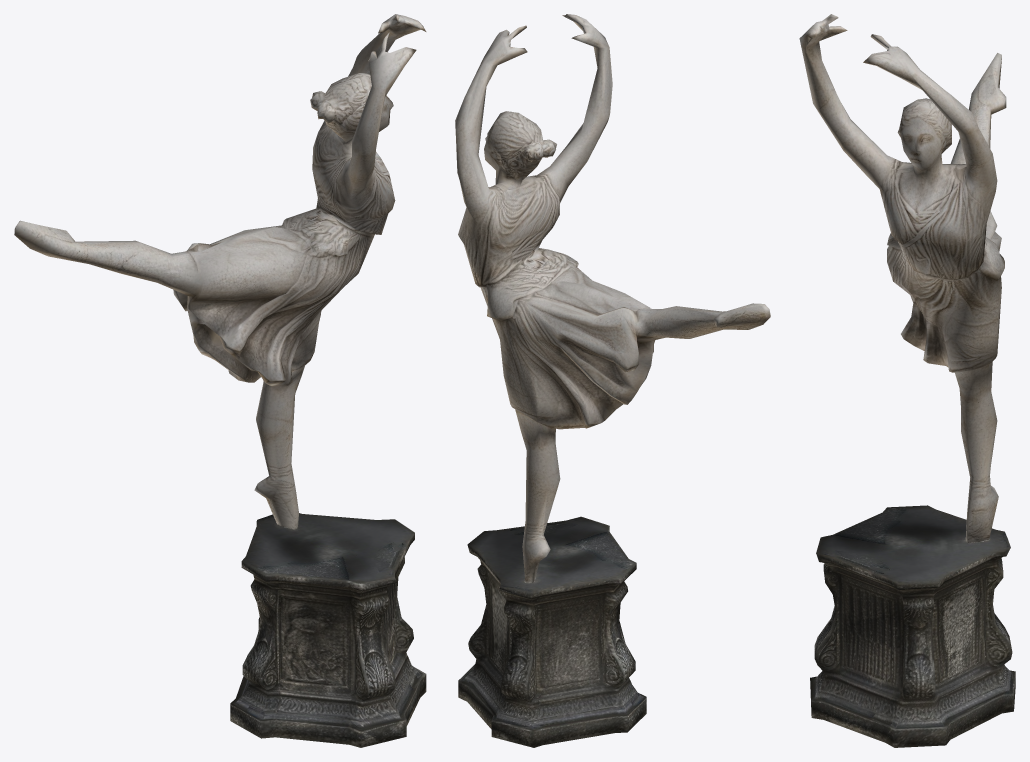
The model's file is ornate+statue+3d+model.glb.
3 views of the same model, side by side, from view 1: azimuth 30°, elevation 25°; view 2: azimuth 150°, elevation 25°; view 3: azimuth 270°, elevation 25° (orthographic). The views are drawn at different scales.
Visible parts, largest first — view 1: tripo_node_3a8d0a55-e23d-4c2c-9608-16a2a433ec49; view 2: tripo_node_3a8d0a55-e23d-4c2c-9608-16a2a433ec49; view 3: tripo_node_3a8d0a55-e23d-4c2c-9608-16a2a433ec49.
Part boxes in pixels (x1,y1,x2,y2): tripo_node_3a8d0a55-e23d-4c2c-9608-16a2a433ec49: [14, 14, 426, 747]; tripo_node_3a8d0a55-e23d-4c2c-9608-16a2a433ec49: [455, 14, 770, 747]; tripo_node_3a8d0a55-e23d-4c2c-9608-16a2a433ec49: [799, 14, 1015, 747].
Size of the model in its own units: 0.541 by 0.998 by 0.2793.
Materials: 1 (1 with a texture image).
